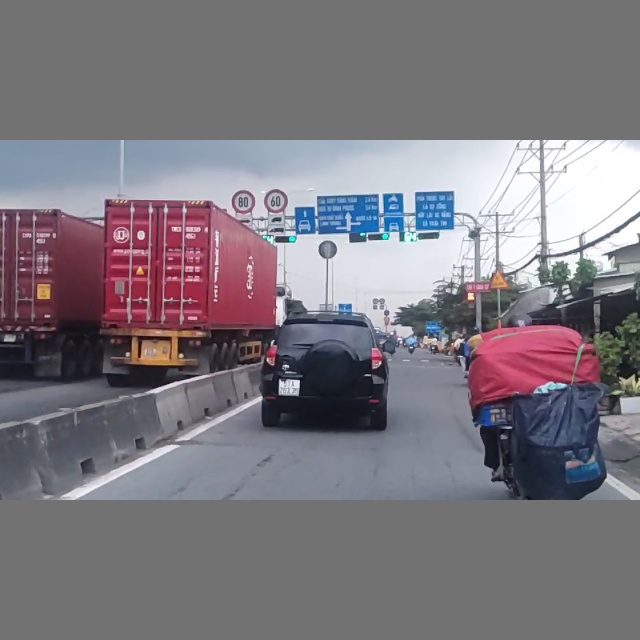P.127*60: (264, 189, 289, 214)
P.127*80: (231, 189, 256, 215)
W.245a: (487, 267, 510, 290)
